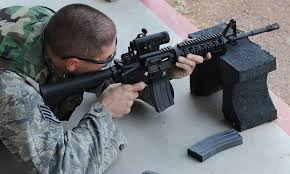gun: (36, 16, 281, 111)
